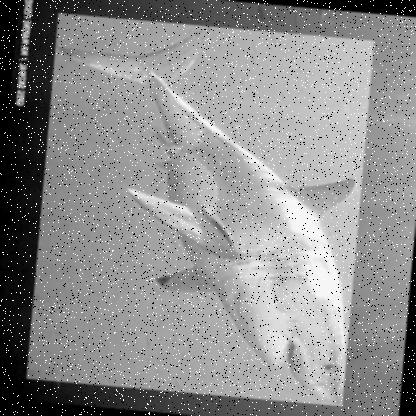white-shark: (25, 12, 374, 406)
